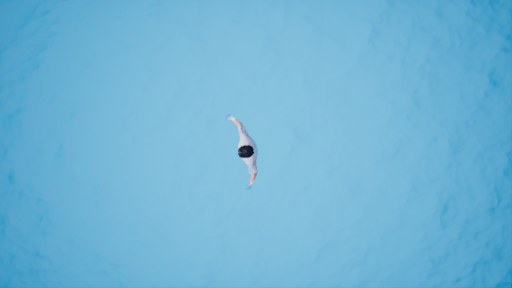person: (223, 115, 269, 193)
